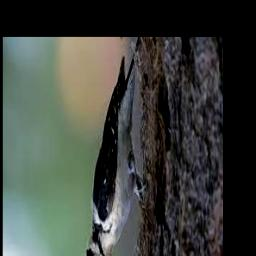Woodpecker: (77, 45, 146, 256)
